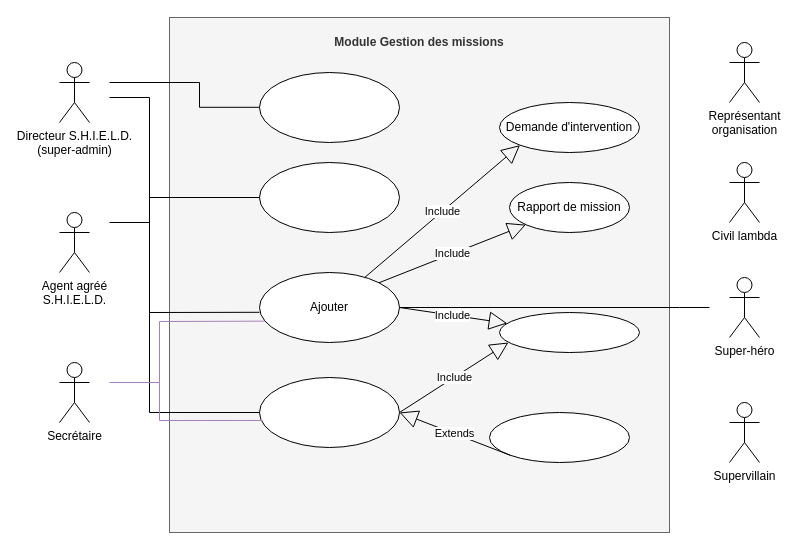
Image size: 798x550. Some labels were removed from this diagram. Here are the shapes that lost their labels. From the top down, the centre of each, then its label:
[329,107]: Supprimer
[329,197]: Utiliser des reportings
[569,332]: Valider/Refuser
[329,412]: Modifier
[559,437]: Archiver
